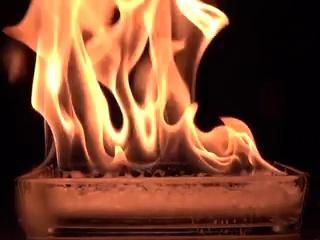Fire: (3, 1, 287, 181)
